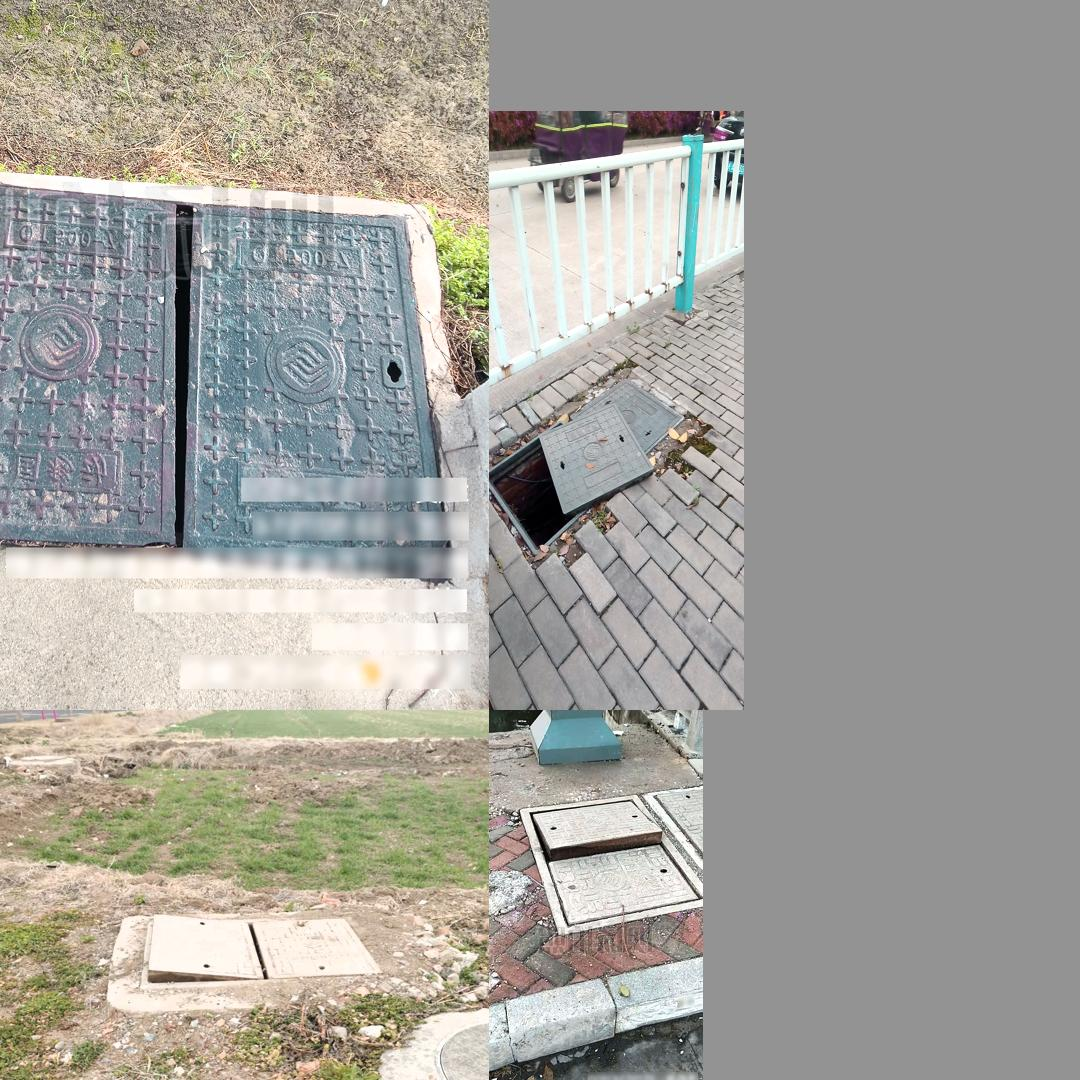uncovered: (0, 200, 440, 537), (489, 378, 684, 553), (531, 789, 673, 930), (141, 912, 383, 989)
